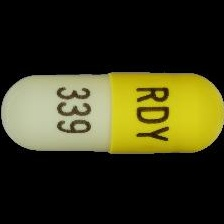21695-866: (0, 0, 224, 224)
